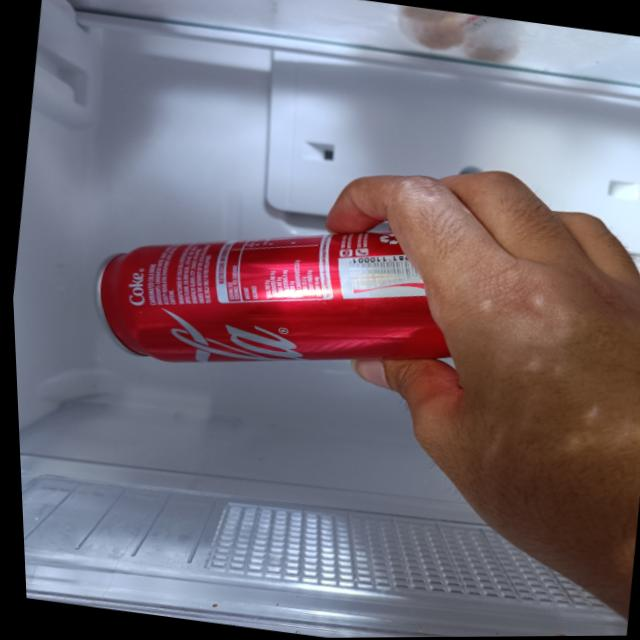coke: (81, 191, 521, 409)
